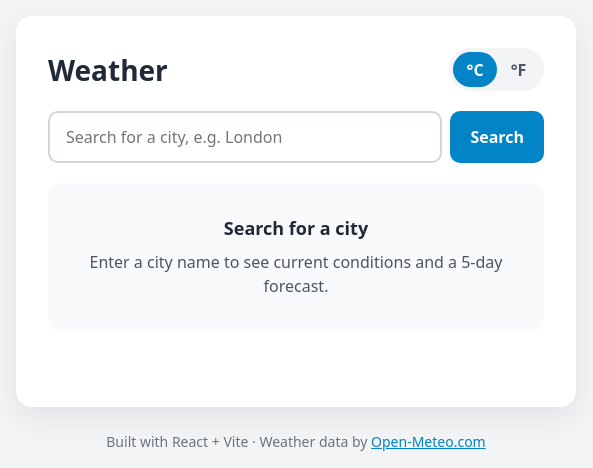
Test: App › tells the user when a city cannot be found
The image size is (593, 468).
Type "Qwzxv" into the search field named "City name" at [245, 137], box [48,111,442,163]
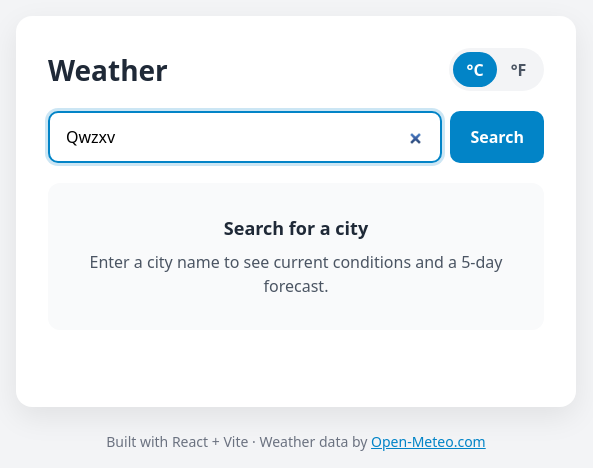
Click the button "Search" at [497, 137], box [450,111,544,163]
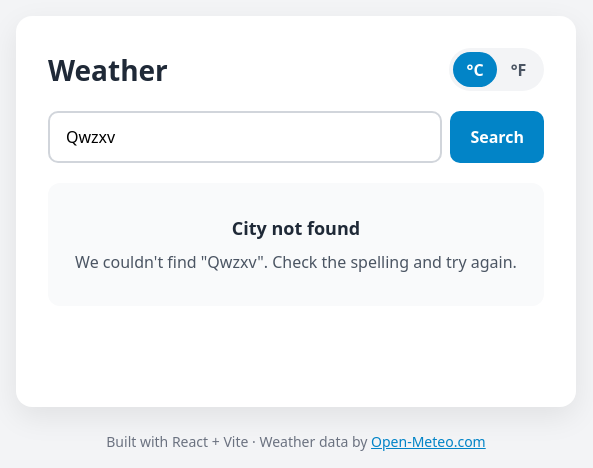
Now the heading "City not found" is shown, box [232,216,360,240]
